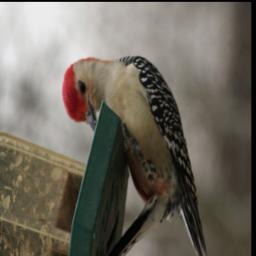Woodpecker: (51, 42, 227, 256)
